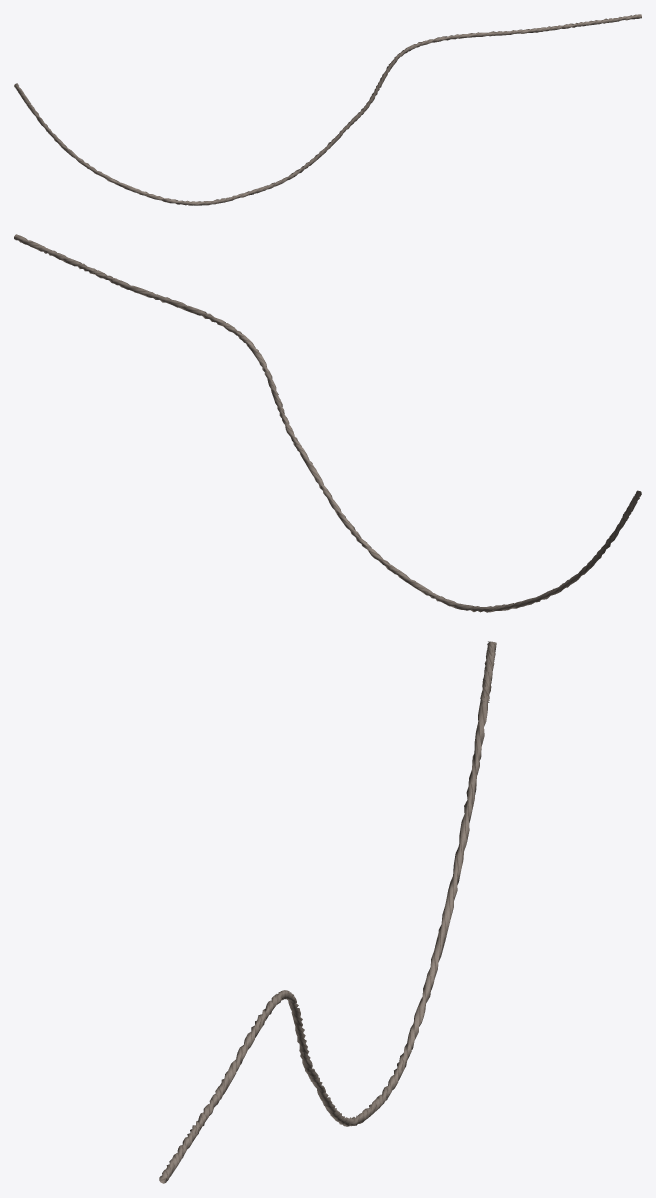
File: SM_RopeSplineMesh_Splines_16.fbx
3 renders of one model, top to bottom at view 1: azimuth 30°, elevation 25°; view 2: azimuth 150°, elevation 25°; view 3: azimuth 270°, elevation 25°, orthographic. The views are drawn at different scales.
Visible parts, largest first — view 1: SM_RopeSplineMesh_Splines_16; view 2: SM_RopeSplineMesh_Splines_16; view 3: SM_RopeSplineMesh_Splines_16.
Part boxes in pixels (bbox=[...]): SM_RopeSplineMesh_Splines_16: bbox=[14, 14, 641, 205]; SM_RopeSplineMesh_Splines_16: bbox=[14, 234, 641, 612]; SM_RopeSplineMesh_Splines_16: bbox=[159, 641, 496, 1183].
Bounding box in the file's own units: 328 × 87.97 × 82.38.
